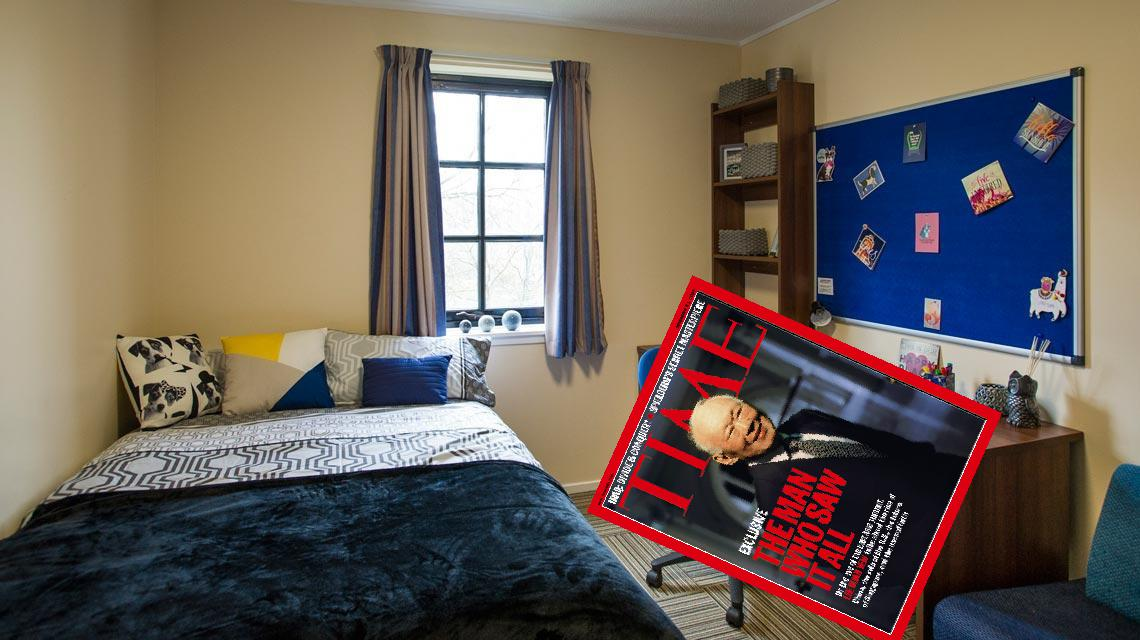times: (581, 274, 1007, 640)
